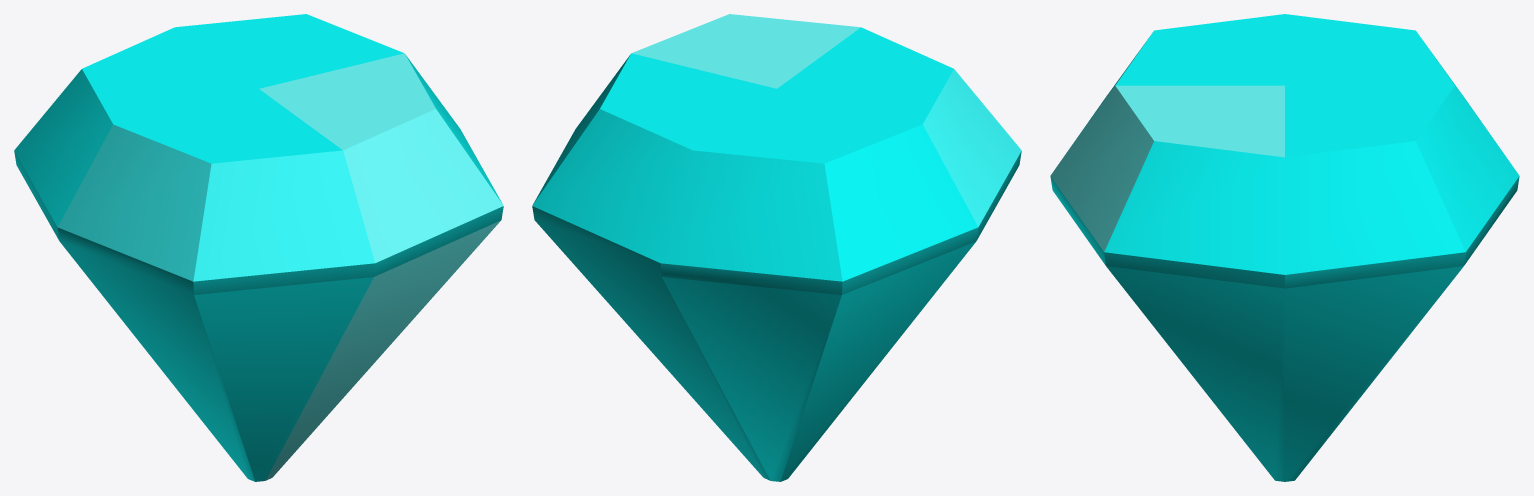
File: Plastic diamond.fbx
3 views of the same model, side by side, from view 1: azimuth 30°, elevation 25°; view 2: azimuth 150°, elevation 25°; view 3: azimuth 270°, elevation 25° (orthographic).
Parts seen in each view (by area): view 1: Diamond; view 2: Diamond; view 3: Diamond.
Boxes of the visible parts, box(x1,y1,x2,y2) form: Diamond: box(14, 14, 503, 481); Diamond: box(532, 14, 1021, 481); Diamond: box(1050, 14, 1519, 481).
Bounding box in the file's own units: 50.21 × 46.15 × 50.21.
